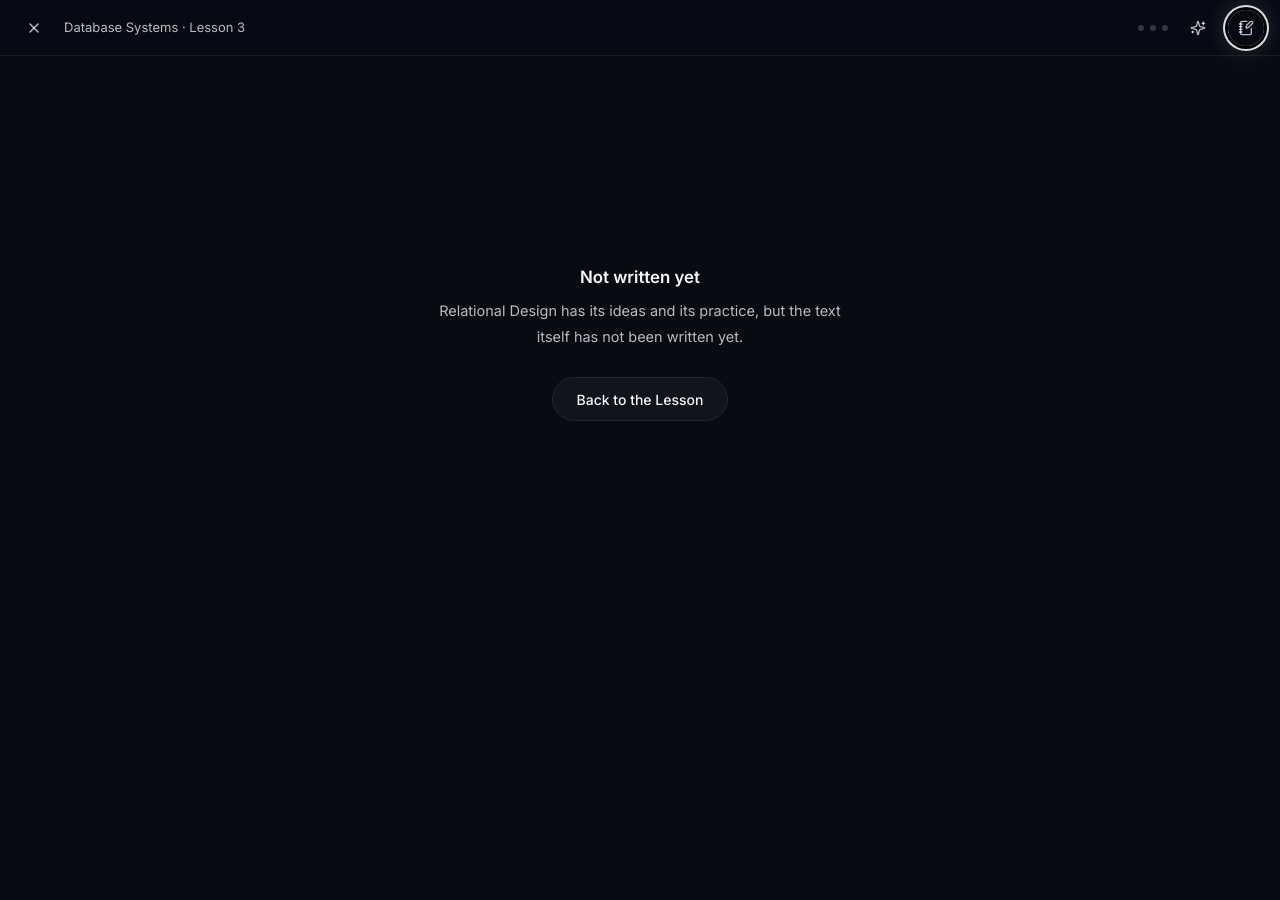
Scenario: the rail comes and goes with the header buttons › is summoned on a Lesson that has no text to read
Expected: the header is shown, [0, 0, 1279, 56]
Expected: the text "Not written yet" is shown, [580, 265, 700, 290]
Step 1. Click the button named "Notes" → (1246, 28), box [1228, 10, 1264, 46]
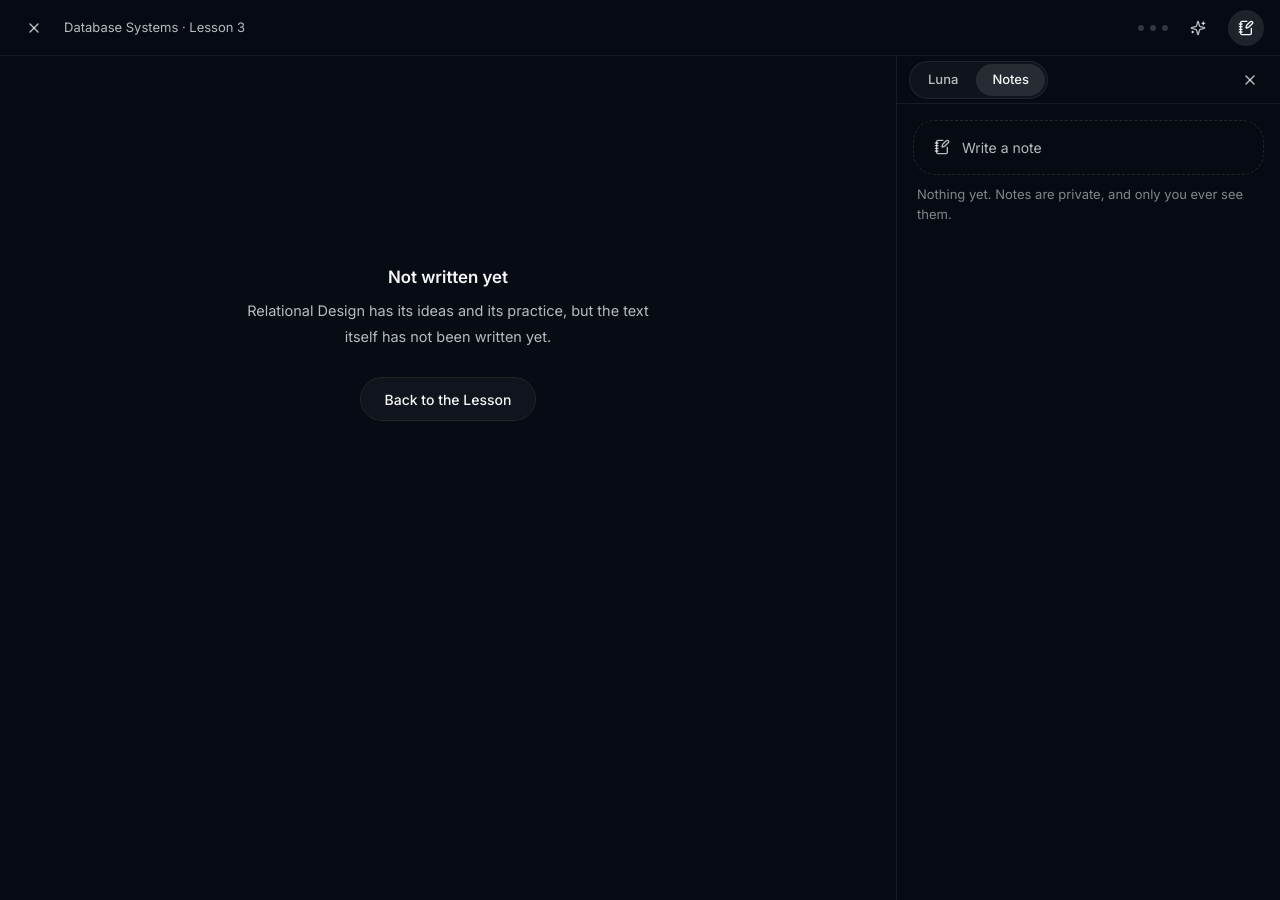
Expected: the element named "Reader companions" is shown, [896, 56, 1279, 899]
